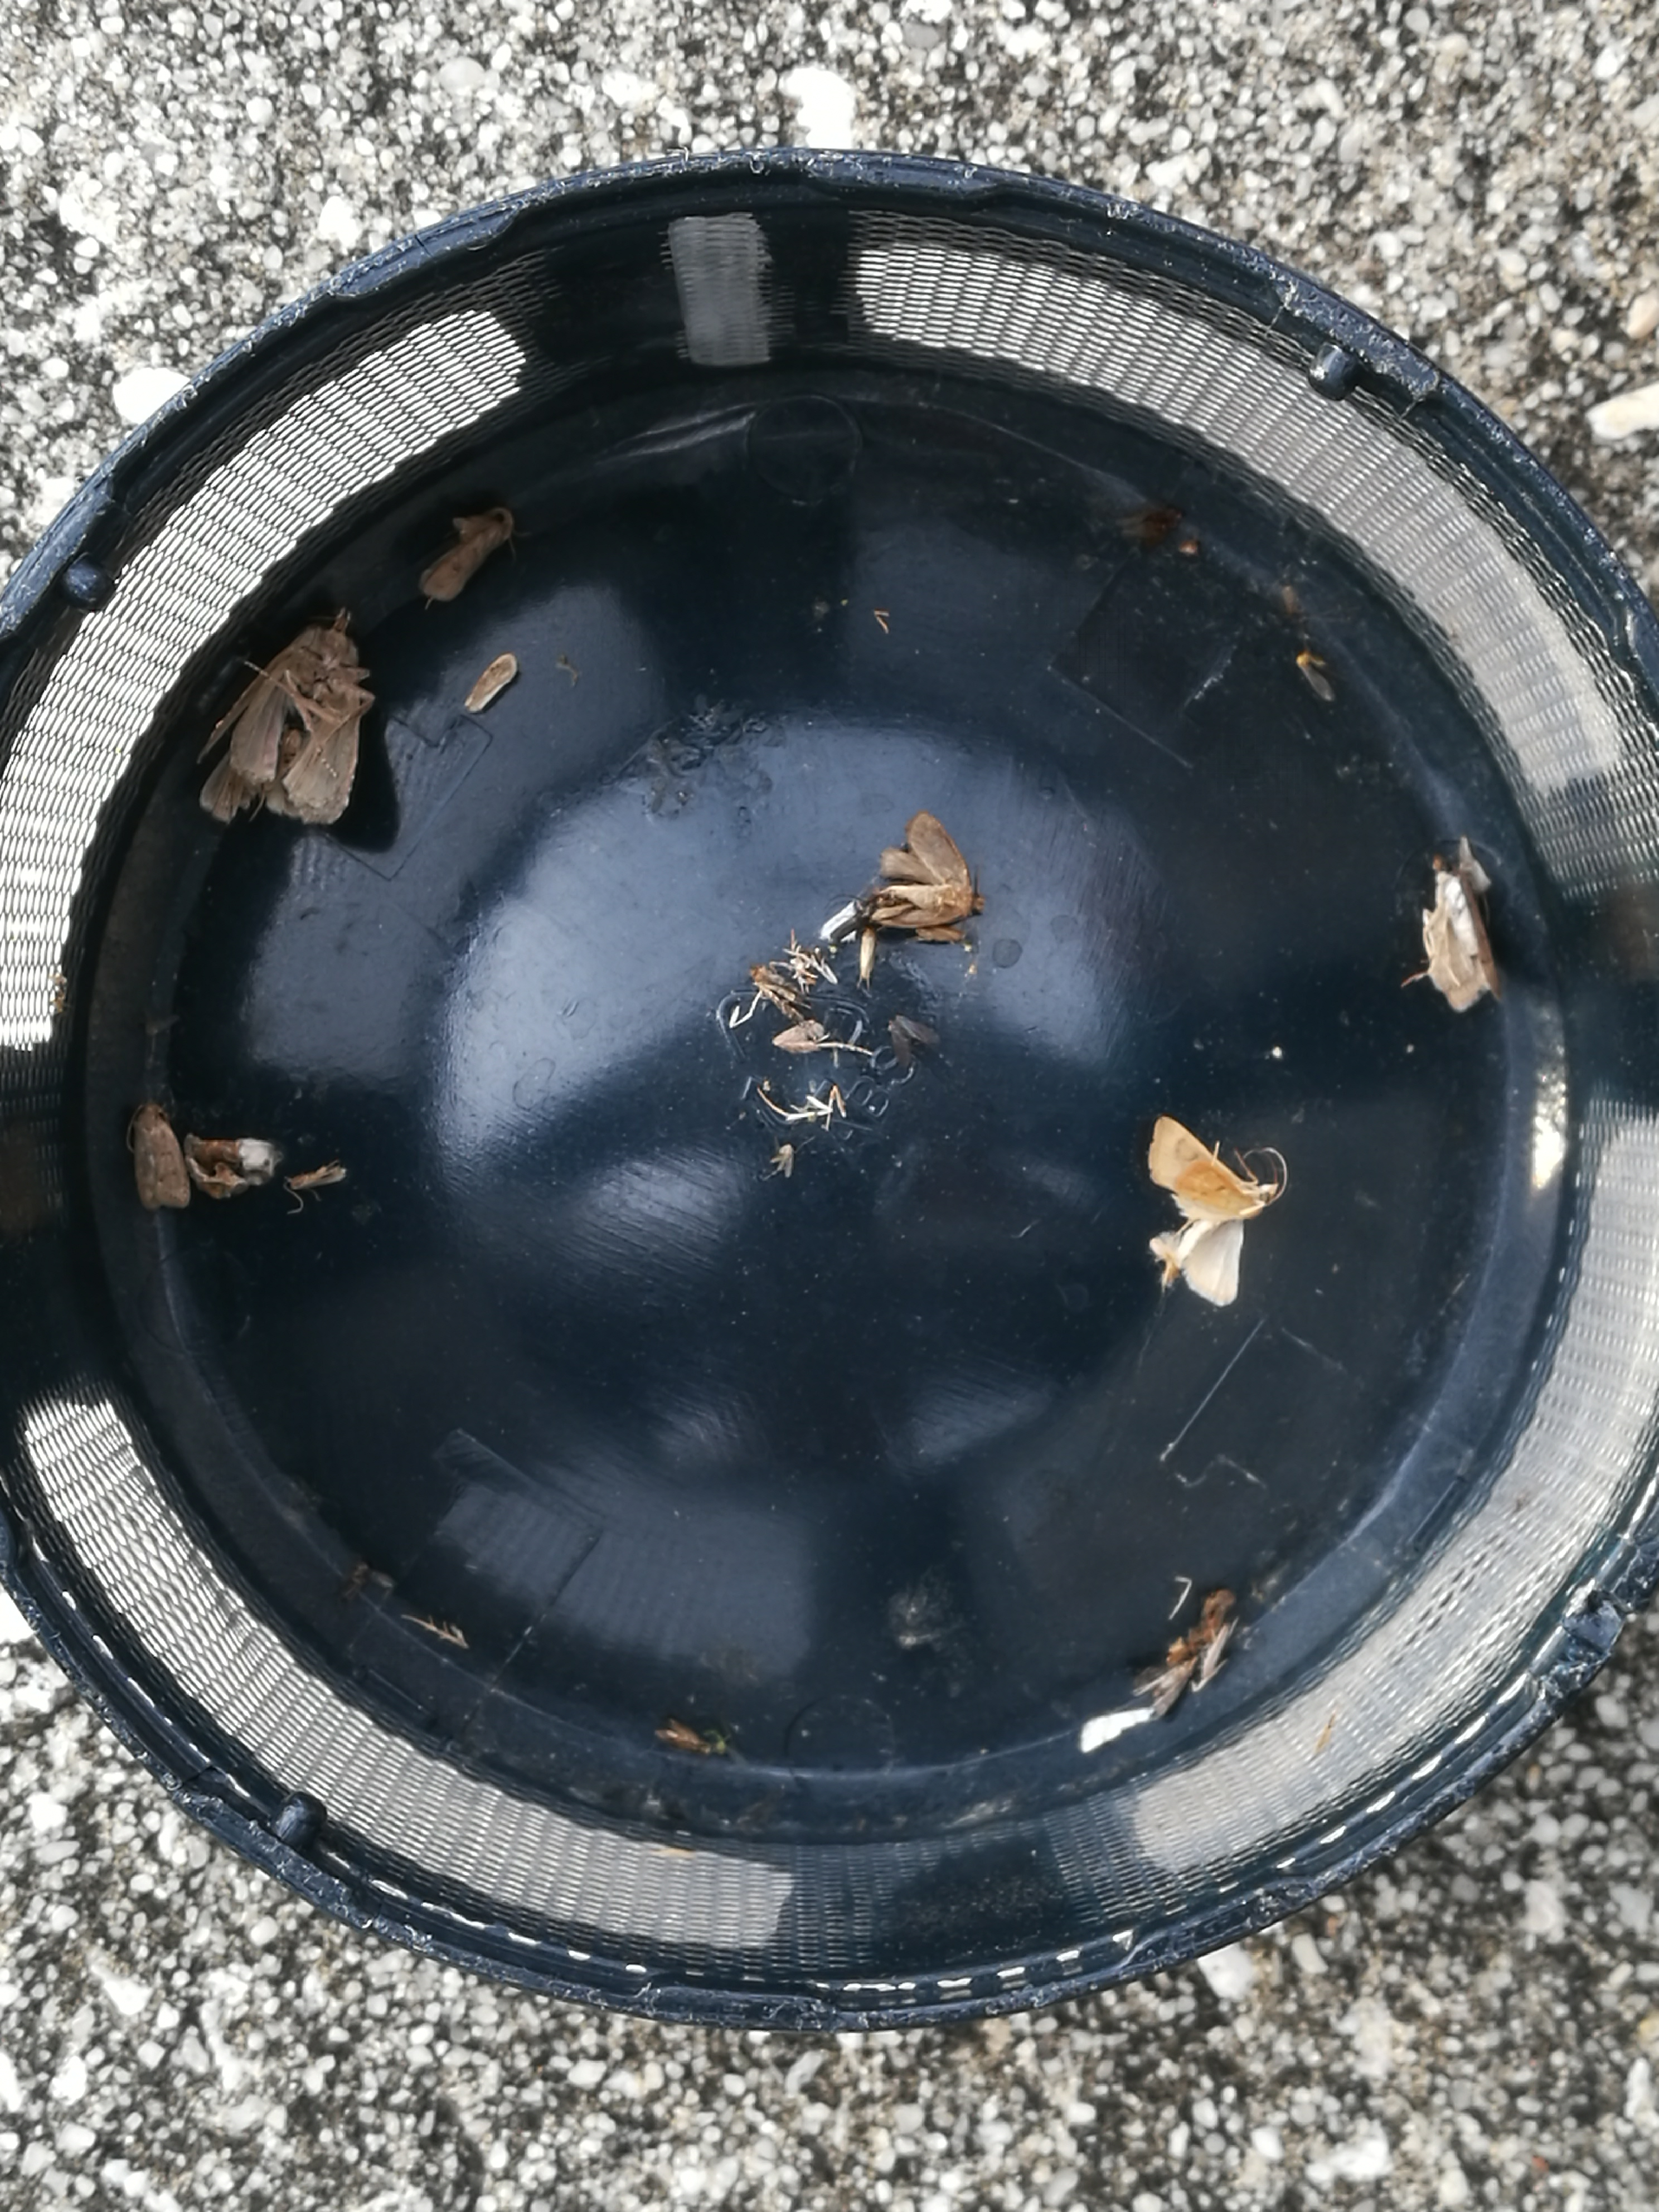moth: (204, 622, 357, 820), (1147, 1116, 1274, 1303), (871, 813, 983, 925), (1422, 867, 1497, 1010), (425, 509, 516, 603), (138, 1106, 190, 1207)
